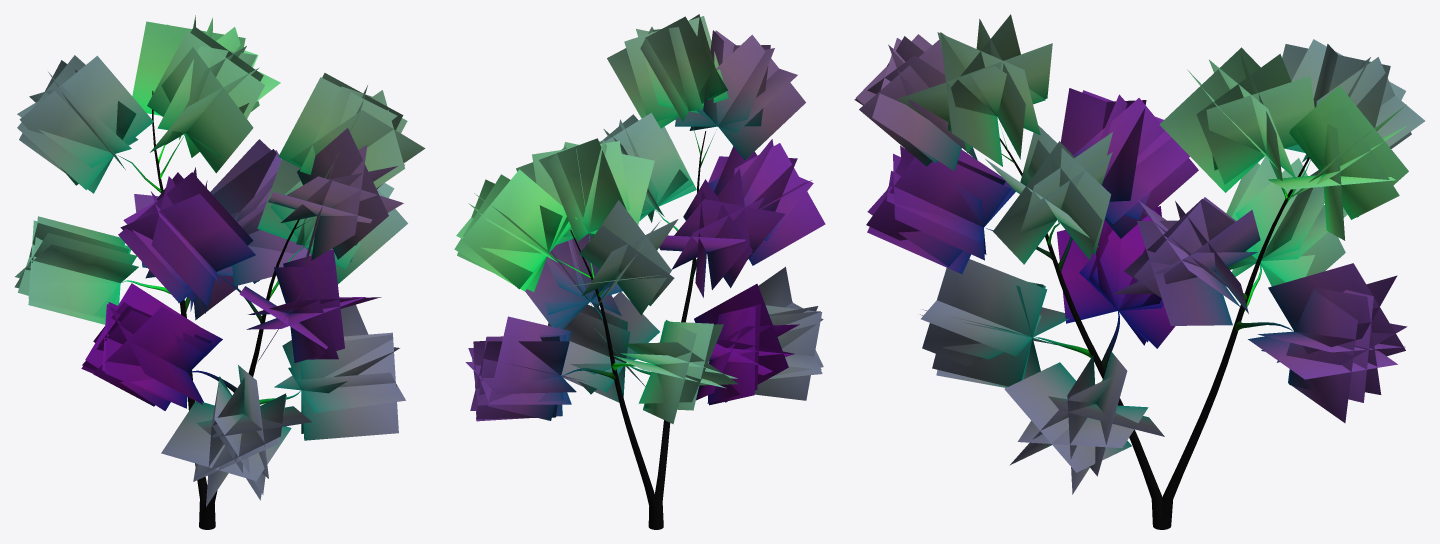
Rendered from URP_P6_Tree_5_LOD_1.fbx.
3 views of the same model, side by side, from view 1: azimuth 30°, elevation 25°; view 2: azimuth 150°, elevation 25°; view 3: azimuth 270°, elevation 25° (orthographic). The views are drawn at different scales.
Visible parts, largest first — view 1: Tree_5_LOD_1; view 2: Tree_5_LOD_1; view 3: Tree_5_LOD_1.
Boxes of the visible parts, box(x1,y1,x2,y2) form: Tree_5_LOD_1: box(14, 15, 425, 529); Tree_5_LOD_1: box(454, 14, 825, 529); Tree_5_LOD_1: box(854, 14, 1424, 529).
Size of the model in its own units: 528 by 851 by 823.
